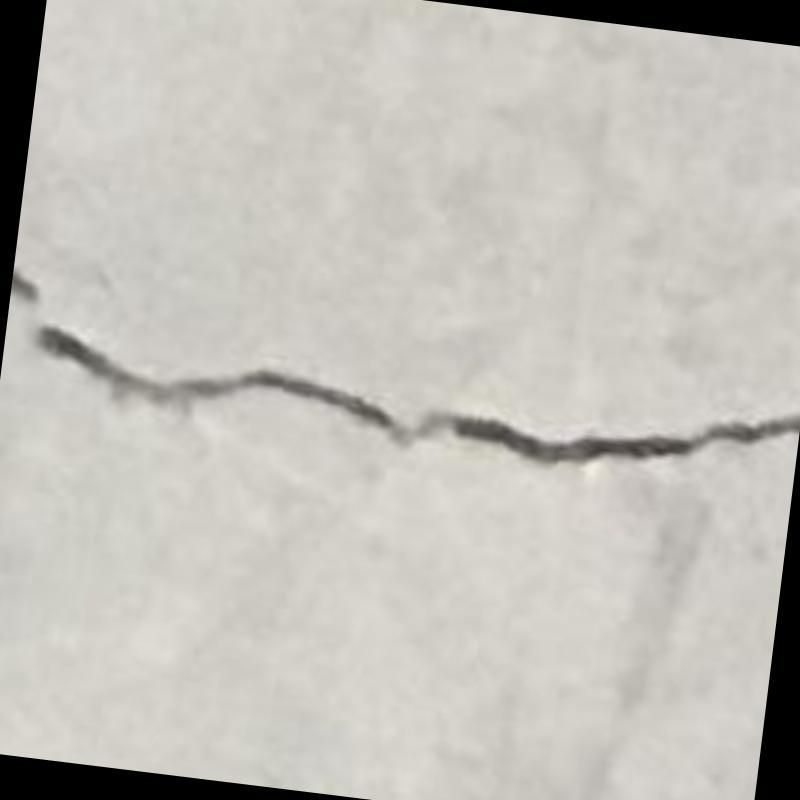pothole: (10, 269, 799, 467)
